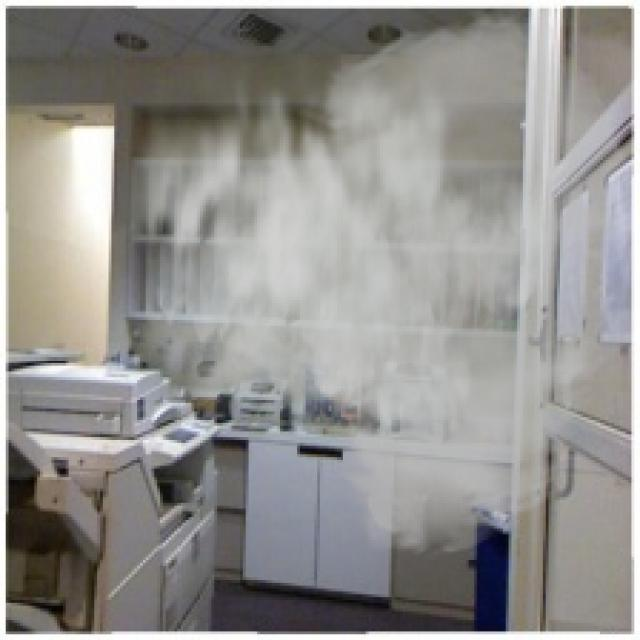smoke: (100, 0, 631, 560)
